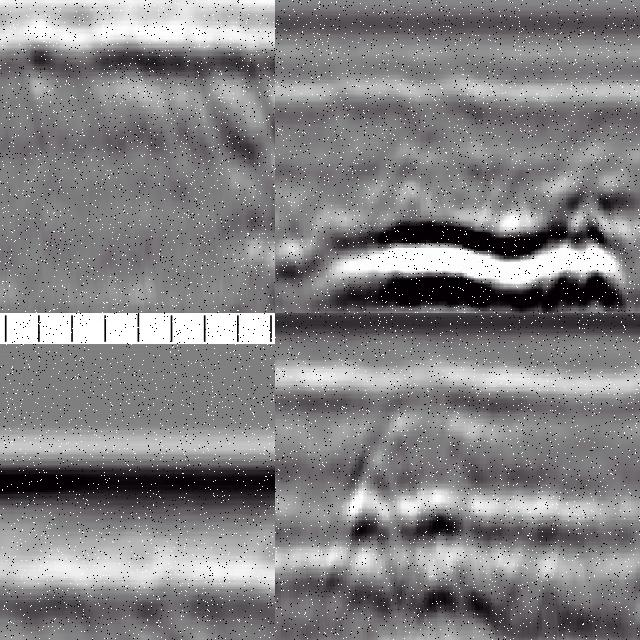loose: (298, 139, 640, 314), (331, 448, 548, 633), (181, 20, 276, 314)
